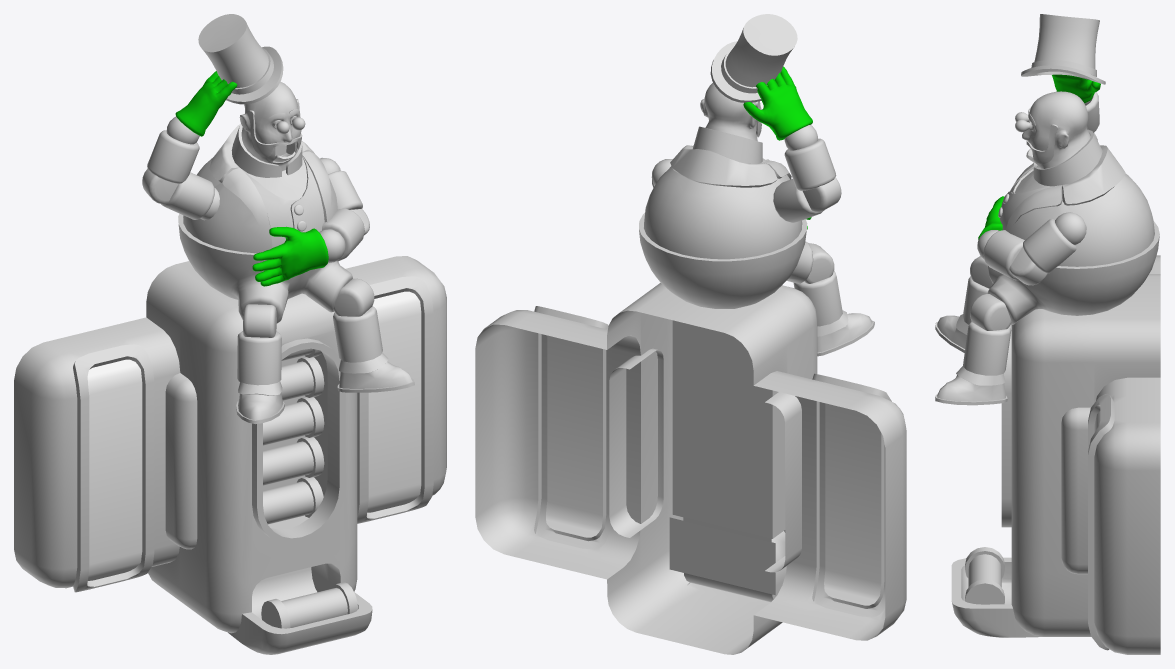
File: 3Dmodel_Prop_VendingMachine_Mana.fbx
The picture shows the model from 3 angles, left to right: view 1: azimuth 30°, elevation 25°; view 2: azimuth 150°, elevation 25°; view 3: azimuth 270°, elevation 25°; orthographic projection. The views are drawn at different scales.
Parts seen in each view (by area): view 1: Prop_VendingMachine_Mana; view 2: Prop_VendingMachine_Mana; view 3: Prop_VendingMachine_Mana.
Boxes of the visible parts, <box> form: Prop_VendingMachine_Mana: <box>14,14,446,654</box>; Prop_VendingMachine_Mana: <box>475,14,906,654</box>; Prop_VendingMachine_Mana: <box>935,14,1160,654</box>.
Size of the model in its own units: 140 by 195 by 68.03.
